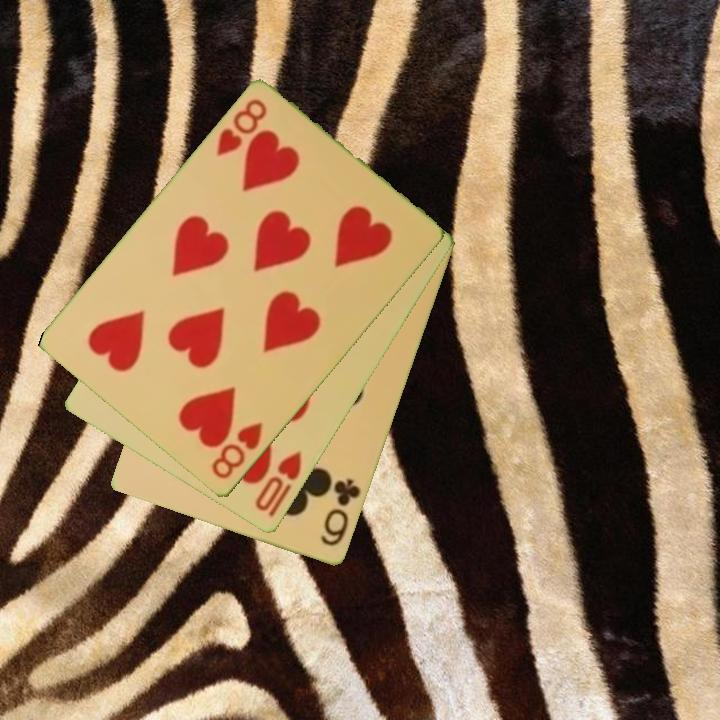10h: (251, 447, 305, 521)
6c: (317, 475, 364, 550)
8h: (208, 419, 266, 483), (213, 96, 270, 160)
